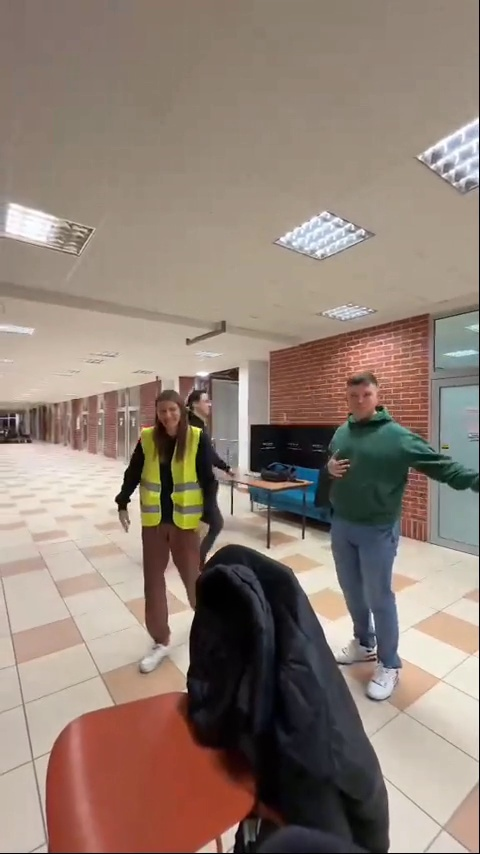no vest: (316, 371, 475, 700)
vest: (113, 380, 224, 673)
